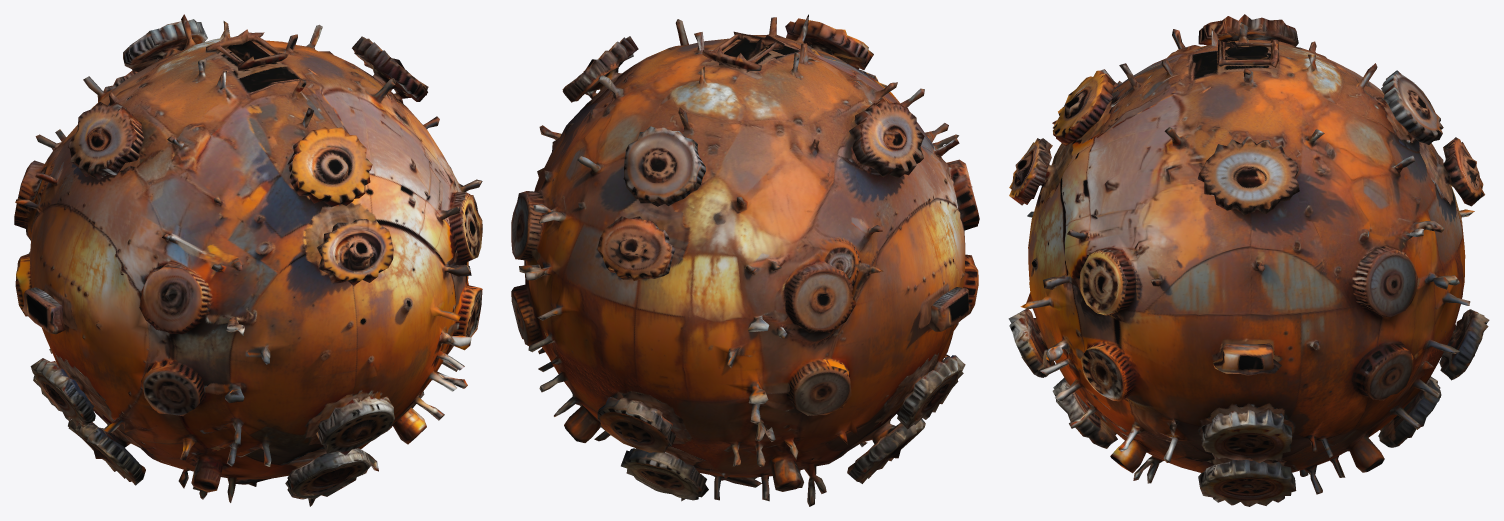
Rendered from Rusty-Moon.fbx.
3 views of the same model, side by side, from view 1: azimuth 30°, elevation 25°; view 2: azimuth 150°, elevation 25°; view 3: azimuth 270°, elevation 25° (orthographic).
Parts seen in each view (by area): view 1: Mesh_0; view 2: Mesh_0; view 3: Mesh_0.
Part boxes in pixels (x1,y1,x2,y2): Mesh_0: (14, 14, 482, 506); Mesh_0: (511, 14, 979, 506); Mesh_0: (1008, 14, 1489, 506).
Size of the model in its own units: 200 by 196 by 196.
1 material, 1 textured.
